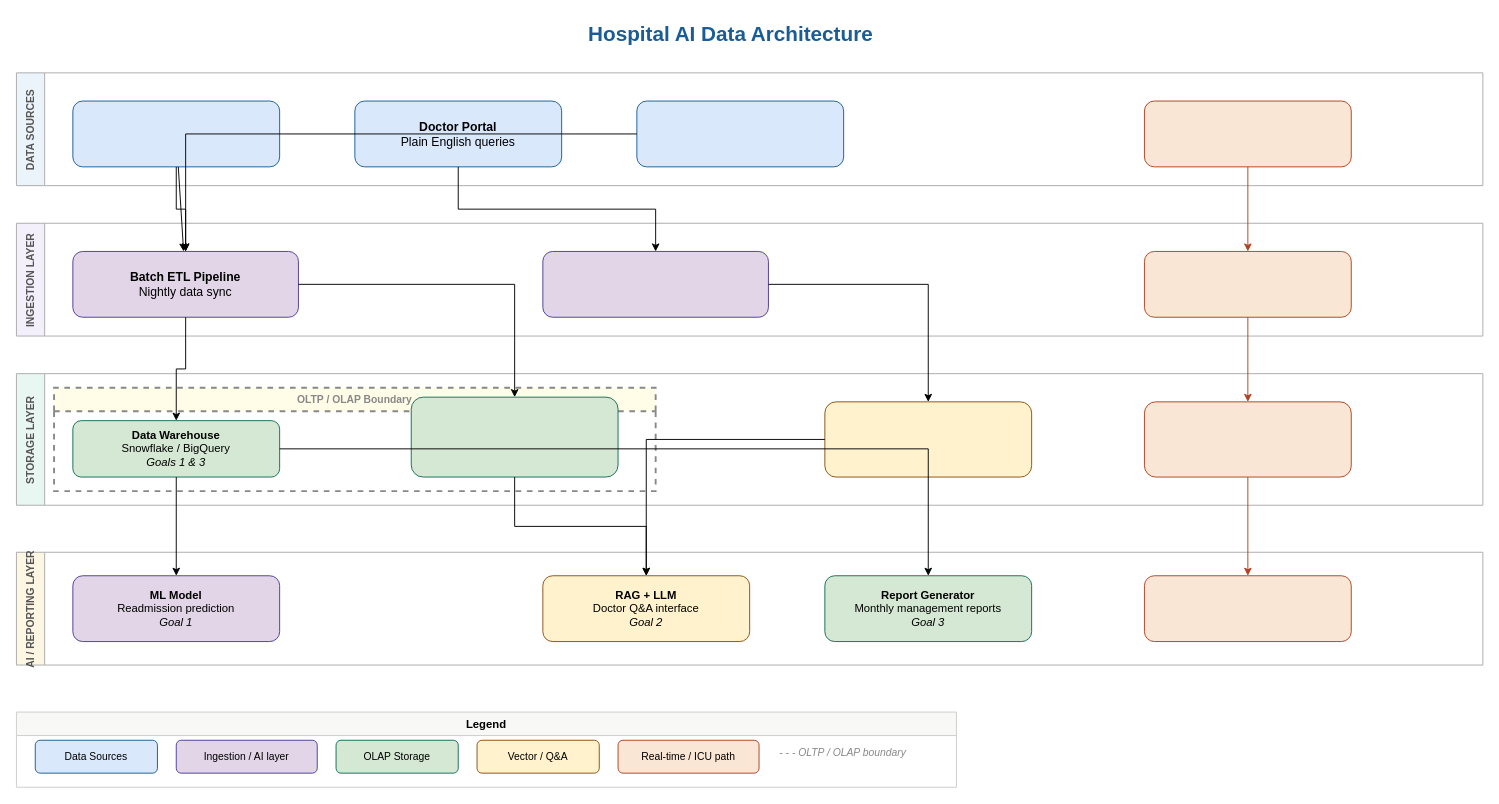
Image size: 1499x804. Some labels were removed from this diagram. The centre of each missing label's shape, as x and y in pixels:
"Billing System Costs & occupancy" belongs at point (740, 133).
"EHR System Historical treatments" belongs at point (176, 133).
"ICU Alert Dashboard Real-time vitals display Goal 4" belongs at point (1247, 608).
"ICU Monitors Real-time vitals stream" belongs at point (1247, 133).
"Kafka Stream Real-time message bus" belongs at point (1247, 284).
"NLP / LLM API Converts text to SQL query" belongs at point (655, 284).
"PostgreSQL Patient records (OLTP) Goal 2" belongs at point (514, 436).
"Time-Series DB InfluxDB / TimescaleDB Goal 4" belongs at point (1247, 439).
"Vector DB Pinecone / pgvector Goal 2" belongs at point (928, 439).
